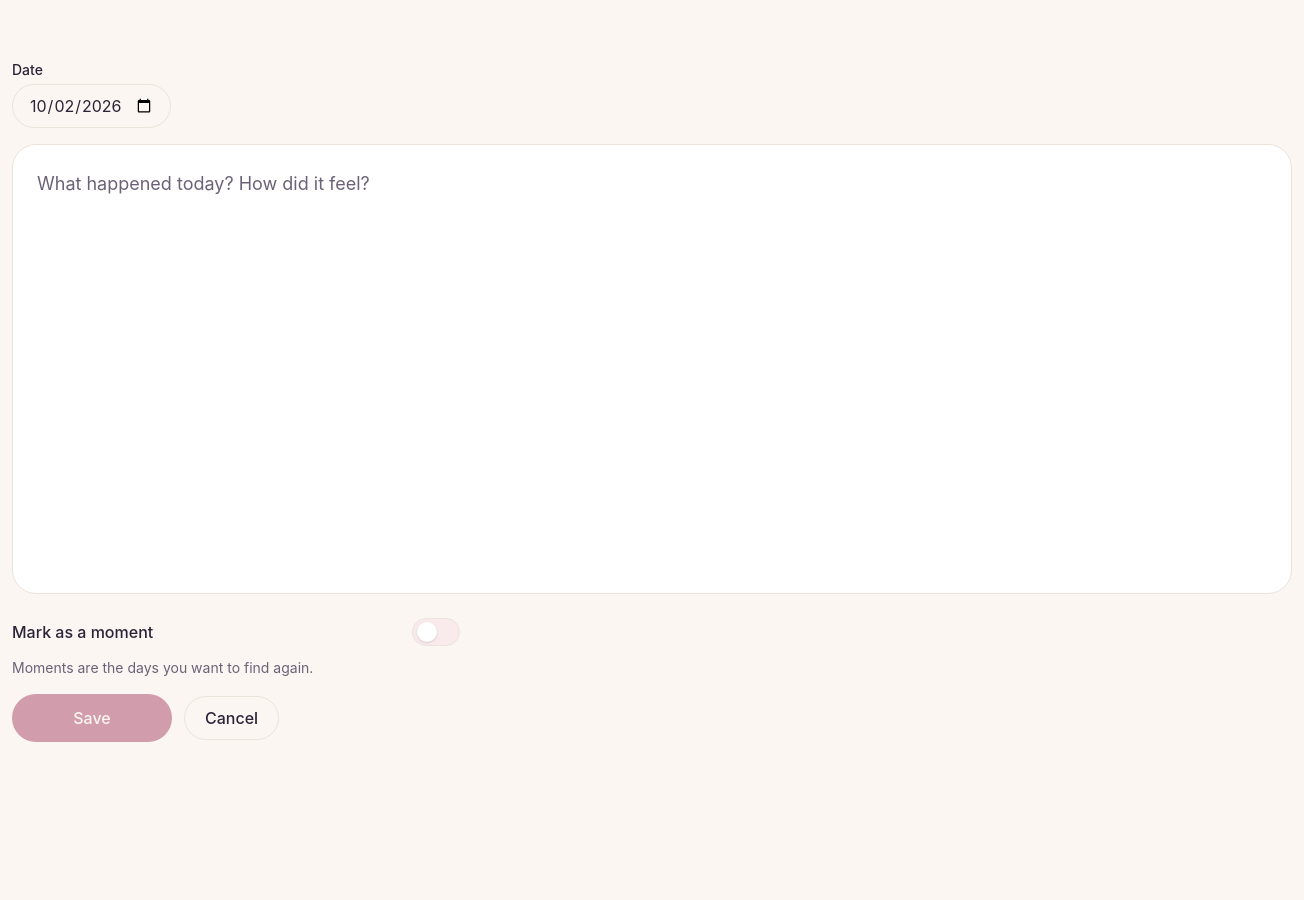
EntryEditor: a new entry › a save that never answers: after the wait, the generic error, the text and its draft kept (the timeout audit)
The image size is (1304, 900).
Step 1. Type "Still here" into the text box with test id "entry-text" → (652, 369), box [12, 144, 1292, 594]
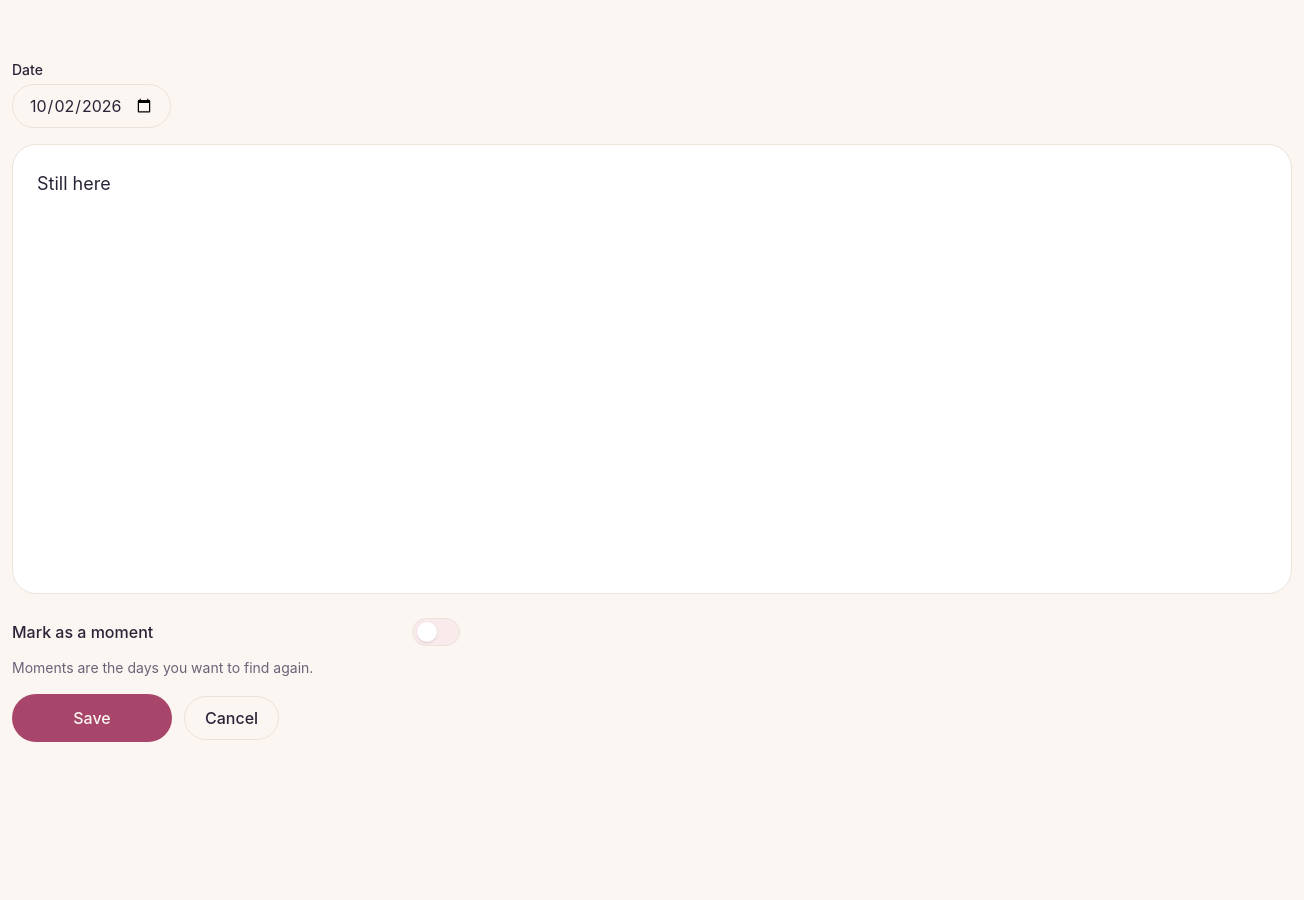
Step 2. Click the button with test id "entry-save" → (92, 718), box [12, 694, 172, 742]
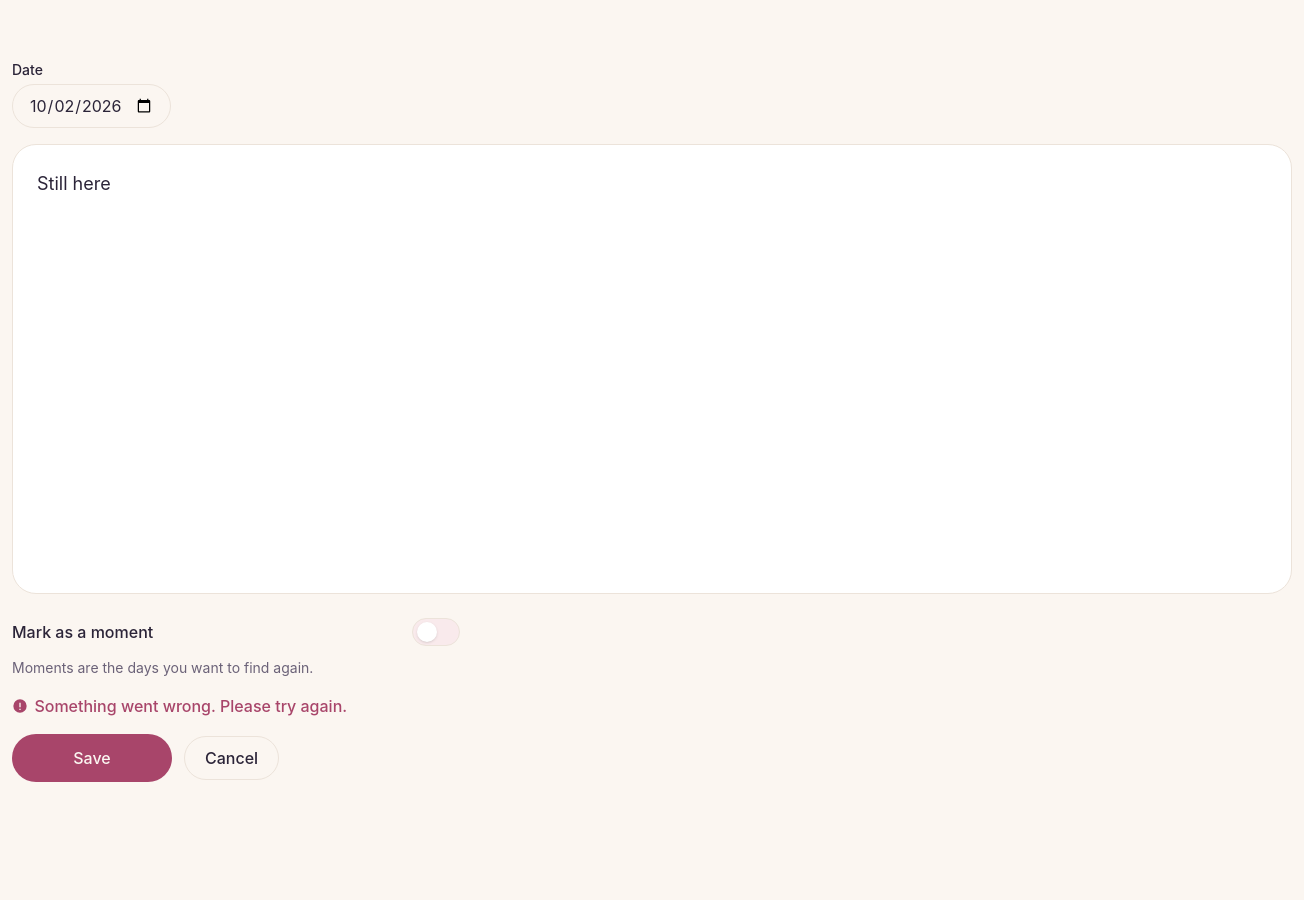
Now the button with test id "entry-save" is enabled, box [12, 734, 172, 782]
Now the message with test id "entry-error" reads "Something went wrong. Please try again.", box [34, 696, 347, 716]
